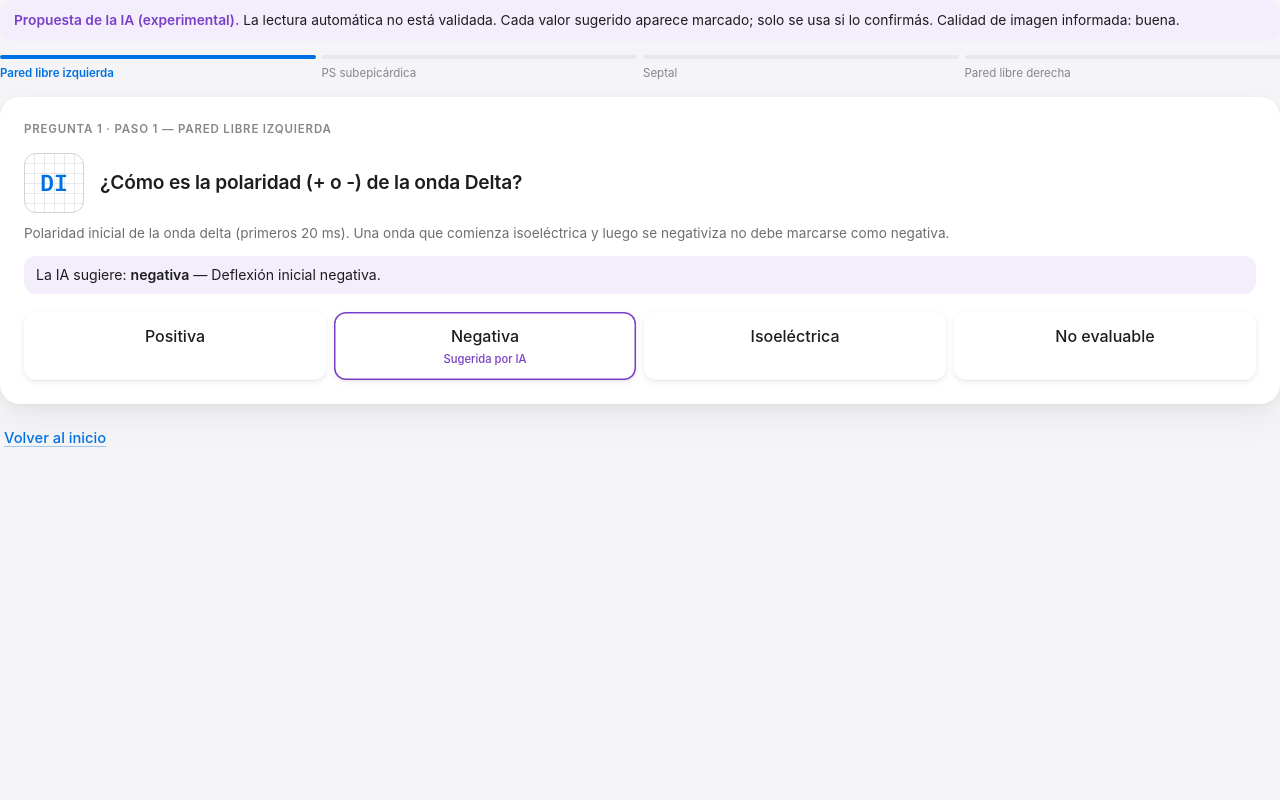
Test: Asistente guiado › las sugerencias de la IA no se aplican sin confirmación
Expected: the element with test id "pregunta" shows "La IA sugiere: negativa", 0,97 -> 1279,404
Expected: the button "Negativa Sugerida por IA" is shown, 334,312 -> 636,380
Click the button "Isoeléctrica": point(795, 346) 644,312 -> 946,380
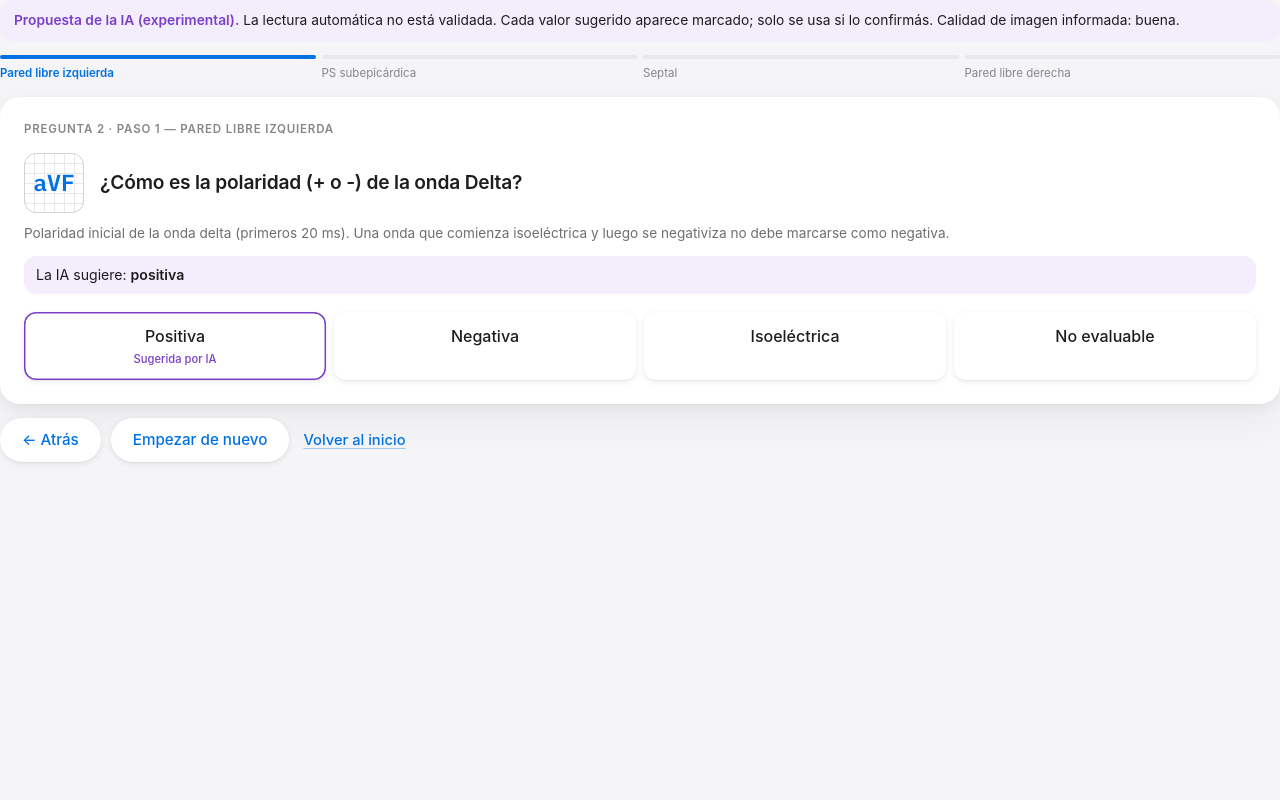
Click the button "Negativa": point(485, 346) 334,312 -> 636,380
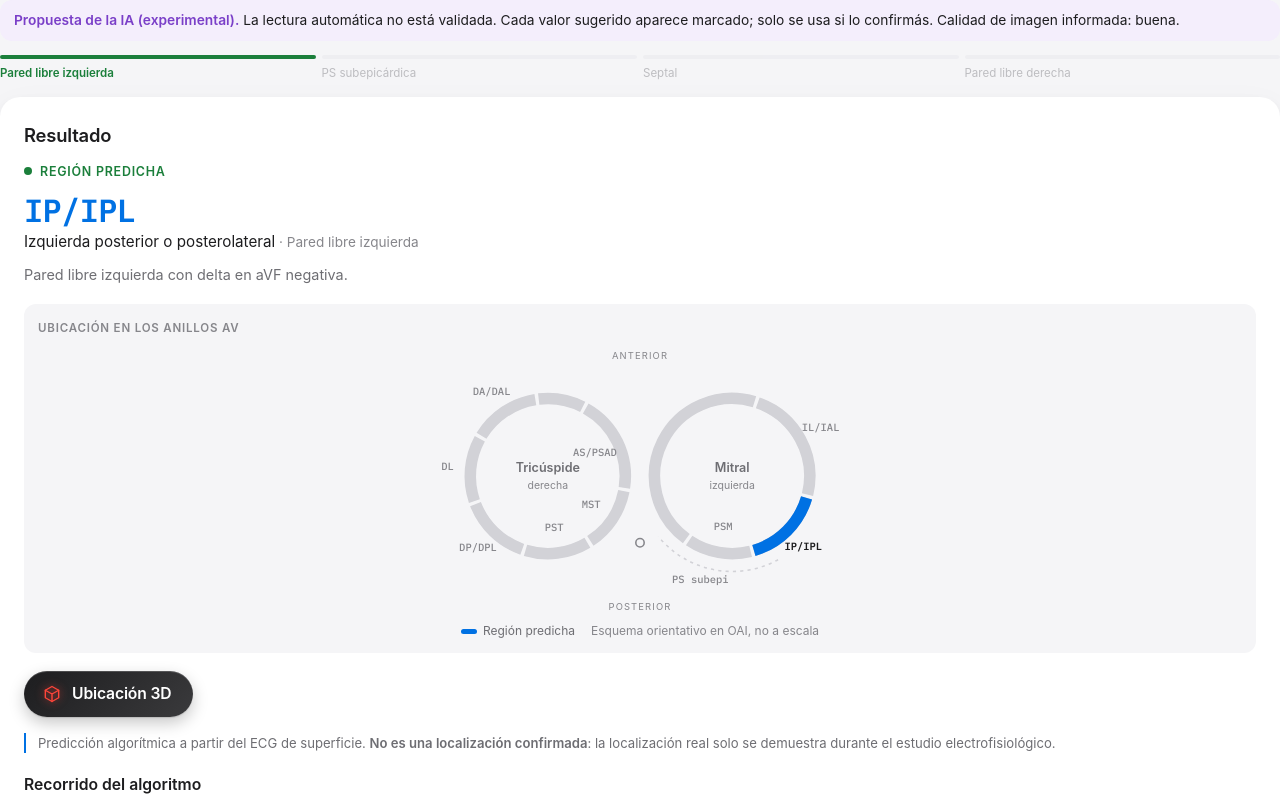
Expected: the list item with test id "region" shows "IP/IPL", 24,189 -> 135,231
